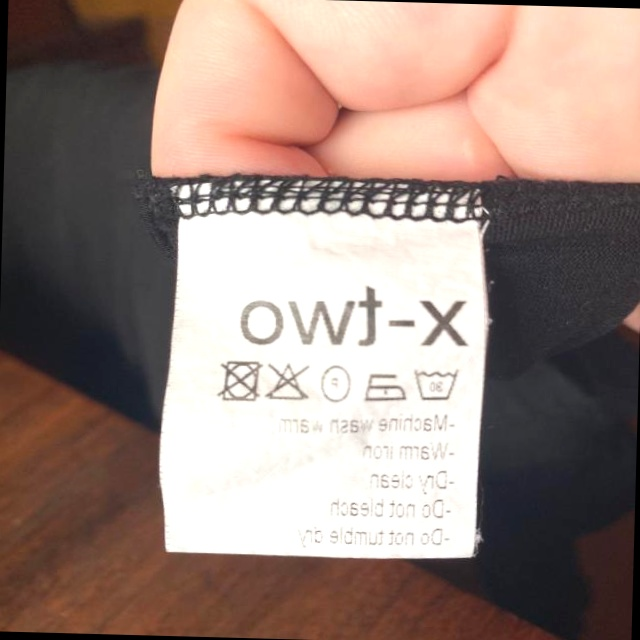30C: (411, 363, 460, 403)
DN_bleach: (264, 358, 310, 404)
DN_tumble_dry: (219, 356, 262, 404)
dry_clean_any_solvent_except_trichloroethylene: (317, 360, 354, 404)
iron_low: (363, 368, 407, 406)
